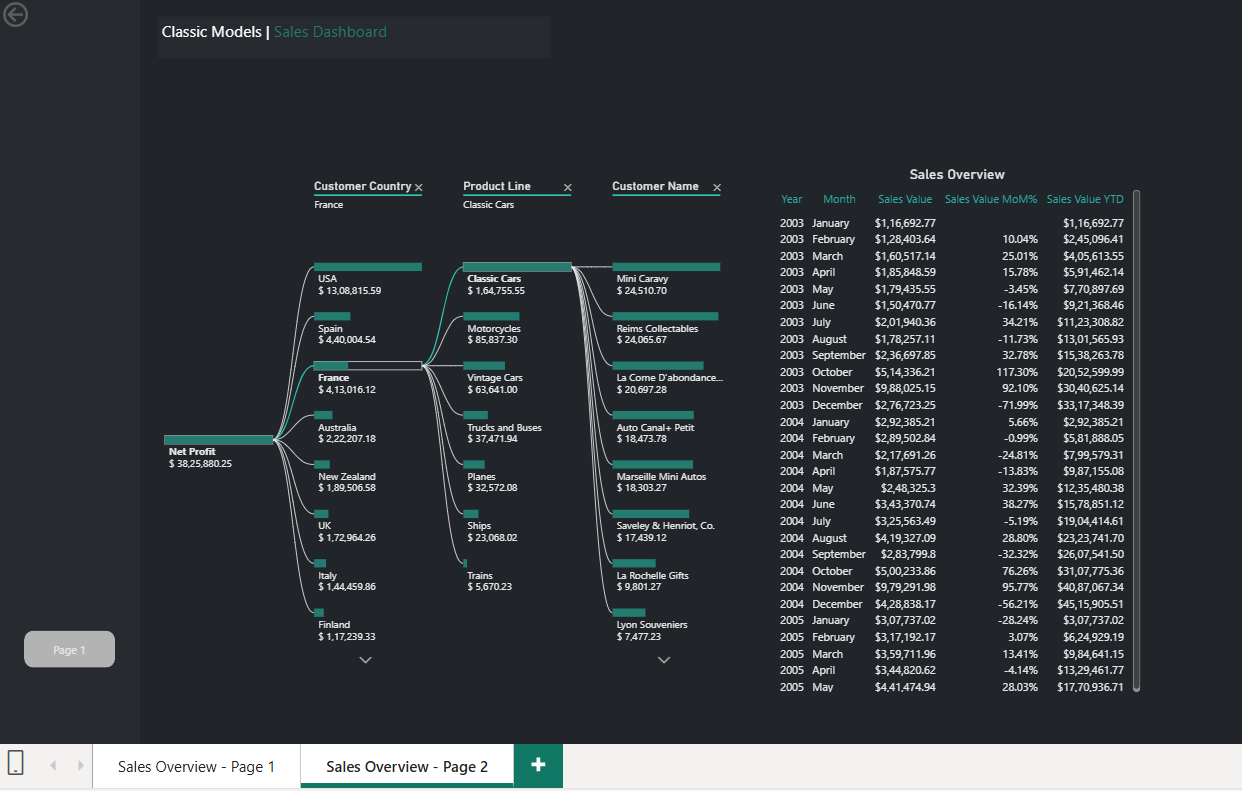

What the dashboard file says about the page in this screenshot:
{"tool":"powerbi","page":{"name":"Sales Overview - Page 2","canvas":[1500,900],"ordinal":1},"visuals":[{"type":"shape","box":[0,0,170,900],"z":0},{"type":"decompositionTreeVisual","fields":{"Analyze":["classicmodels sales_data_for_power_bi.Net Profit"],"ExplainBy":["classicmodels sales_data_for_power_bi.customer_country","classicmodels sales_data_for_power_bi.productLine","classicmodels sales_data_for_power_bi.customerName"]},"box":[170,201.7,735,640],"z":1000},{"type":"textbox","box":[191.5,22.6,473.5,49.8],"z":2000},{"type":"tableEx","title":"Sales Overview","fields":{"Values":["classicmodels sales_data_for_power_bi.orderDate.Variation.Date Hierarchy.Year","classicmodels sales_data_for_power_bi.orderDate.Variation.Date Hierarchy.Month","Sum(classicmodels sales_data_for_power_bi.sales_value)","Table.Sum of sales_value MoM%","Table.Sum of sales_value YTD"]},"box":[930,201.7,451.7,640],"z":3000},{"type":"actionButton","box":[0,0,100,40],"z":4000},{"type":"shape","box":[30,763.3,110,45],"z":5000}]}

Visuals, with their boxes on the page's 1500x900 design canvas (x1, y1, x2, y2). These are canvas units, not pixel positions in the 1242x791 screenshot, which may show the page scaled, cropped or inside an application window:
shape: 0 0 170 900
decompositionTreeVisual - classicmodels sales_data_for_power_bi.Net Profit x classicmodels sales_data_for_power_bi.customer_country: 170 202 905 842
textbox: 192 23 665 72
"Sales Overview" tableEx: 930 202 1382 842
actionButton: 0 0 100 40
shape: 30 763 140 808
